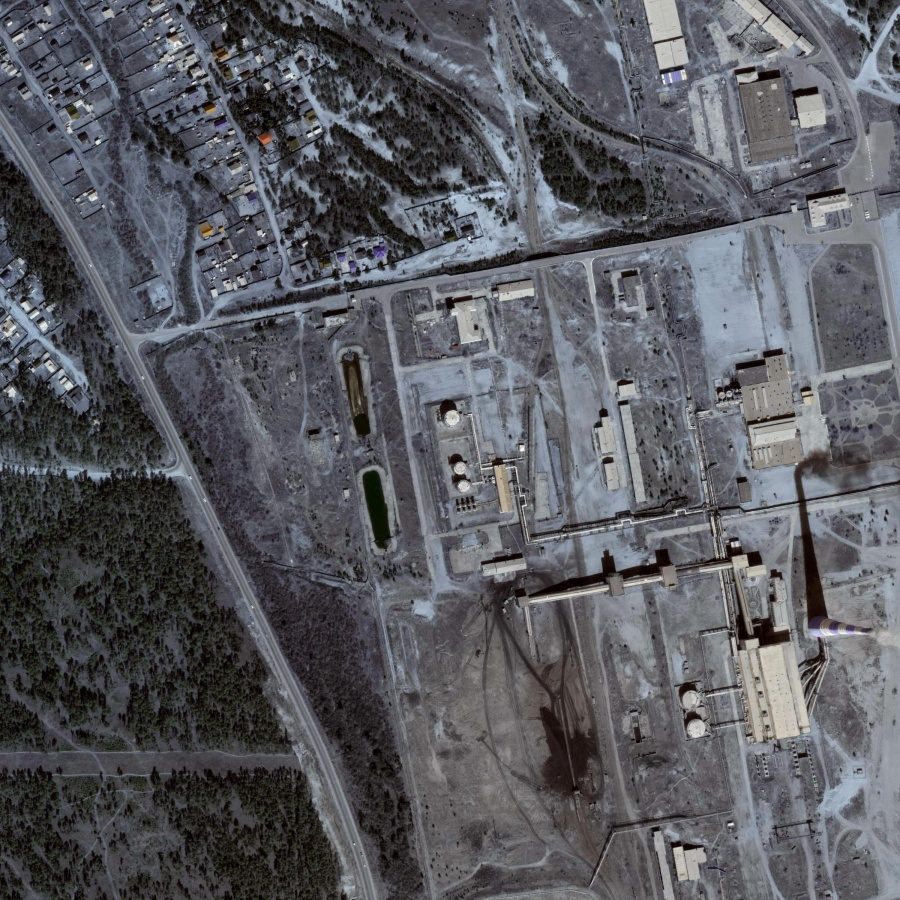PowerPlant: (419, 386, 897, 814)
